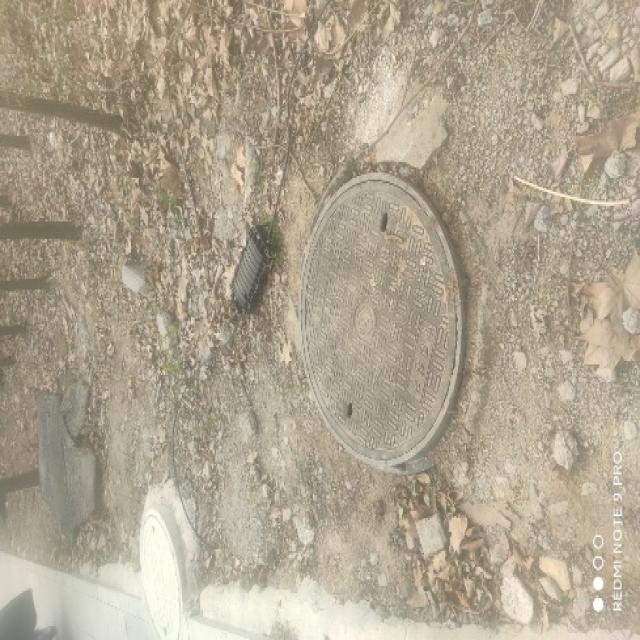Good: (287, 176, 473, 480)
